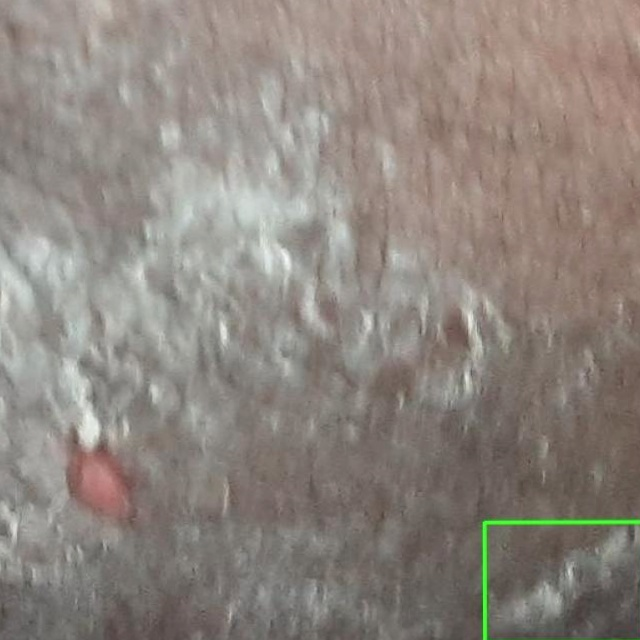Eczema: (484, 521, 639, 639)
